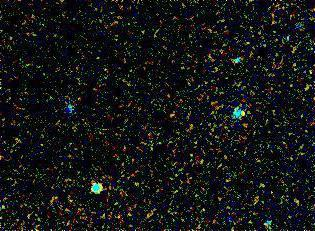star: (227, 99, 257, 129)
